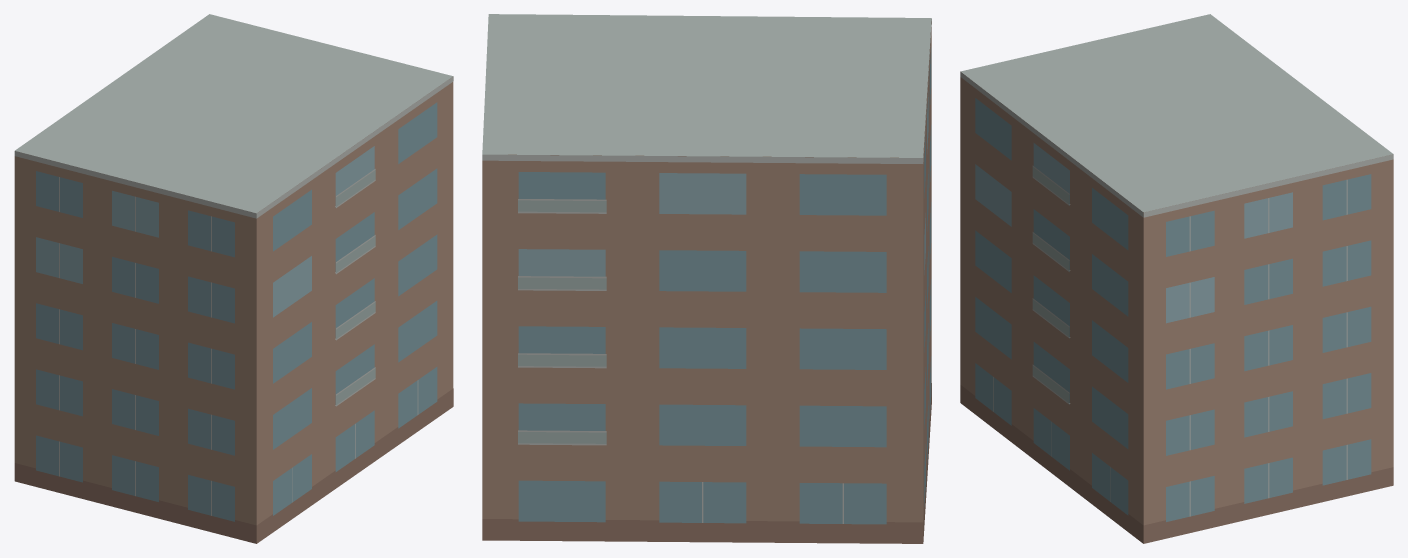
The model's file is survey-upis-32911191.glb.
3 renders of one model, left to right at view 1: azimuth 30°, elevation 25°; view 2: azimuth 150°, elevation 25°; view 3: azimuth 270°, elevation 25°, orthographic. The views are drawn at different scales.
Visible parts, largest first — view 1: survey-upis-32911191.tmp; view 2: survey-upis-32911191.tmp; view 3: survey-upis-32911191.tmp.
Boxes of the visible parts, x1,y1,x2,y2 form: survey-upis-32911191.tmp: (14,14,453,543); survey-upis-32911191.tmp: (482,14,931,543); survey-upis-32911191.tmp: (960,14,1393,543).
Bounding box in the file's own units: 19.59 × 15.25 × 18.08.
